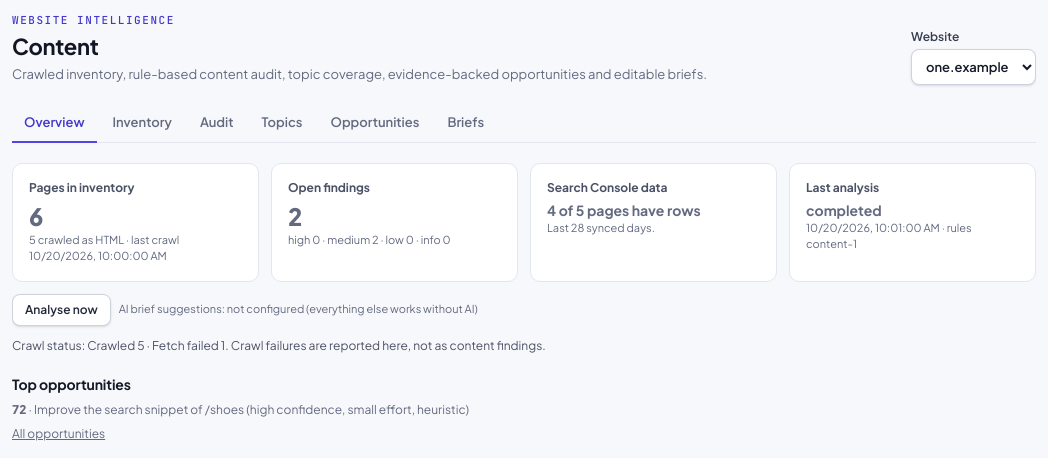
Test case: Content overview › permission-denied reads as such
Click the button "Analyse now" at coordinates (61, 310), box [12,294,111,326]
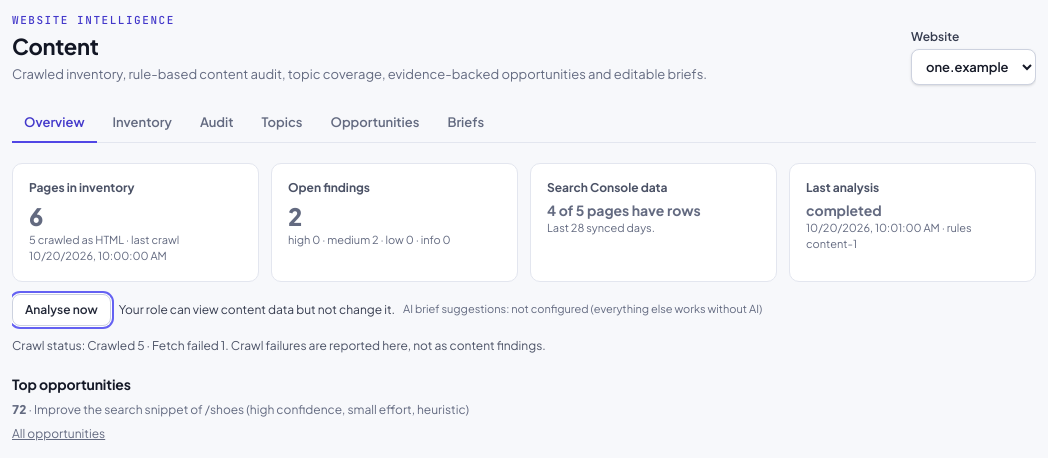
Expected: the text "Your role can view content data but not change it." is shown, [119,302,395,318]
